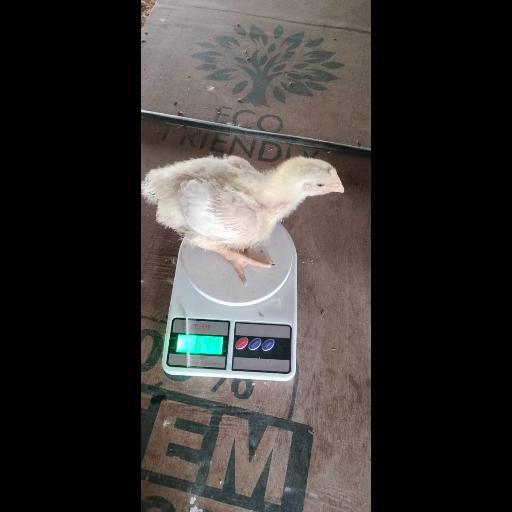chick: (143, 155, 344, 285)
